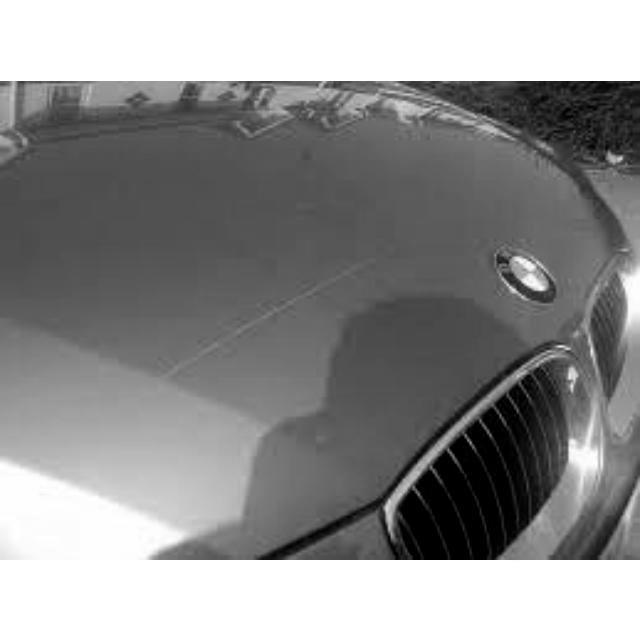bonnet-dent: (1, 125, 574, 503)
